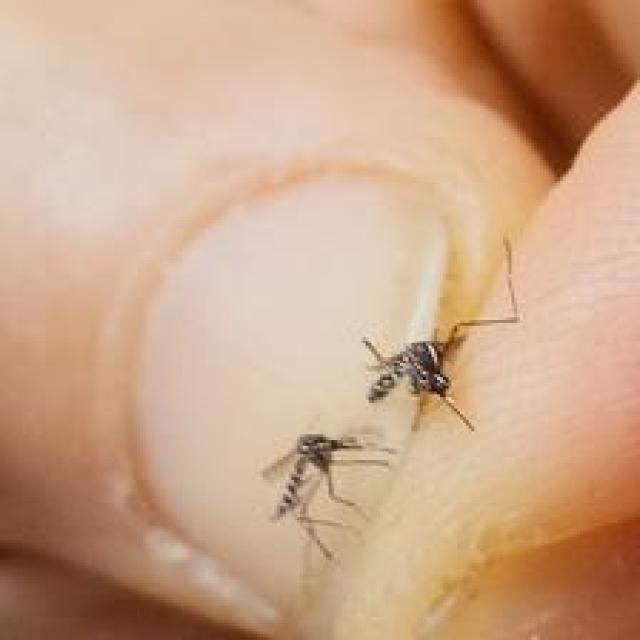Aedes albopictus: (262, 430, 398, 561)
